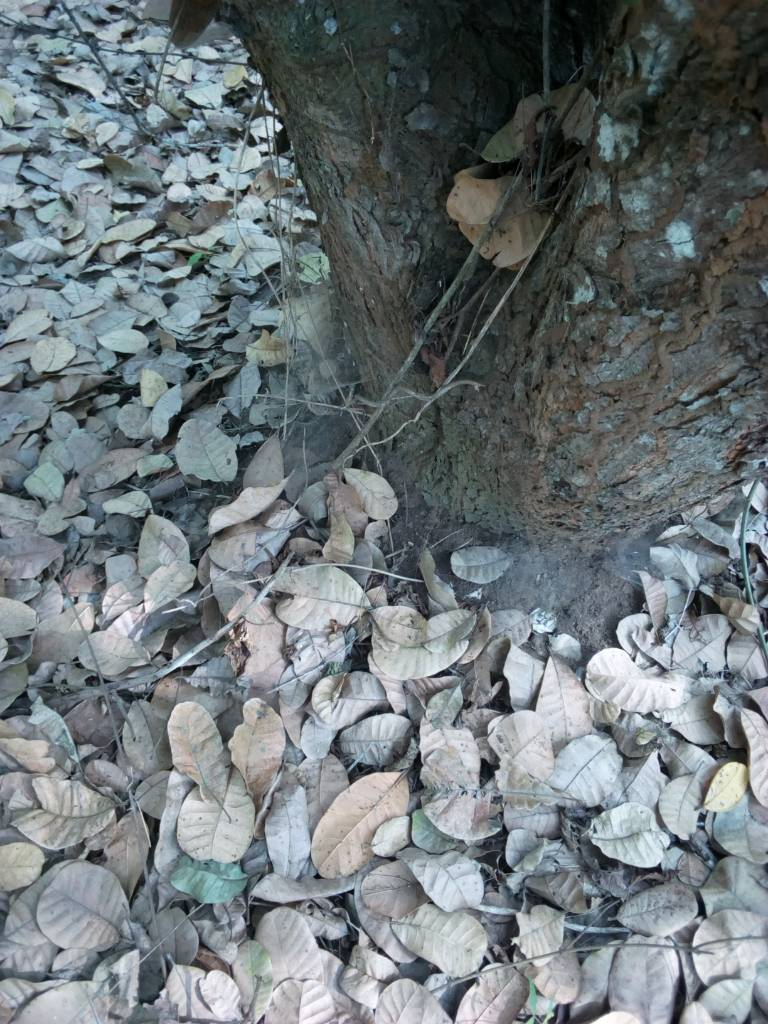Termites: (590, 219, 761, 461)
